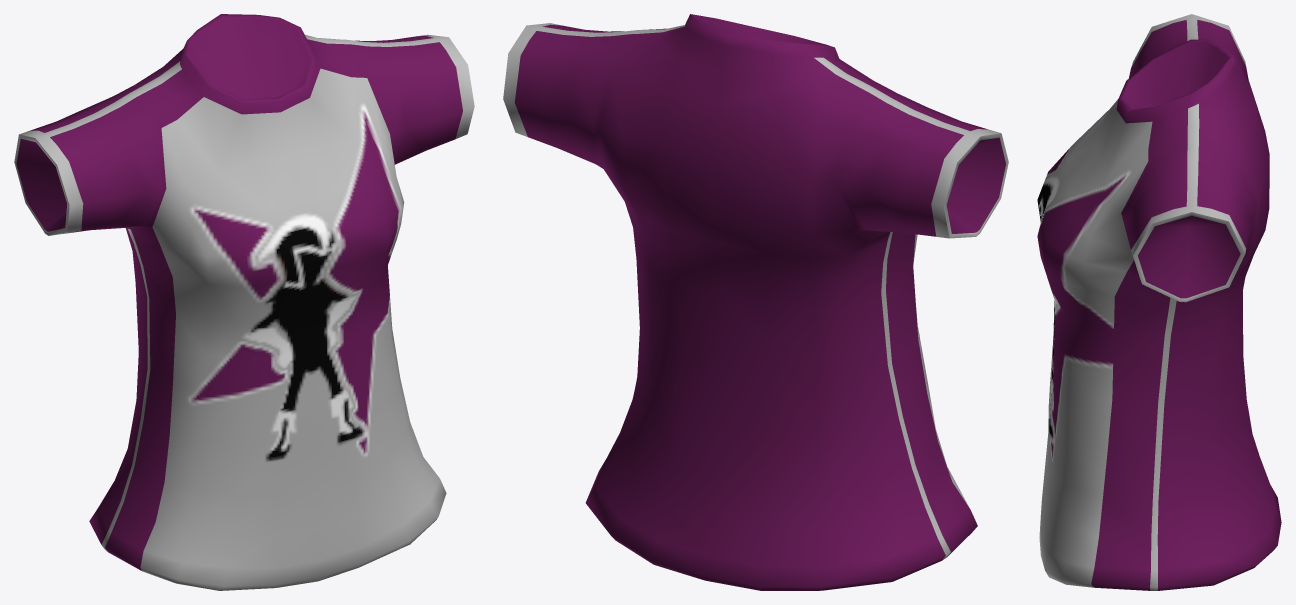
The model's file is female_tshirts3.glb.
The picture shows the model from 3 angles, left to right: view 1: azimuth 30°, elevation 25°; view 2: azimuth 150°, elevation 25°; view 3: azimuth 270°, elevation 25°; orthographic projection. The views are drawn at different scales.
Visible parts, largest first — view 1: node_id132; view 2: node_id132; view 3: node_id132.
Boxes of the visible parts, x1,y1,x2,y2 form: node_id132: (14,14,474,590); node_id132: (503,14,1008,590); node_id132: (1037,14,1281,590).
Bounding box in the file's own units: 0.4466 × 0.512 × 0.2326.
1 material, 1 textured.
